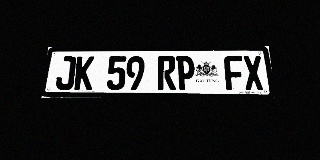5: (107, 56, 126, 90)
9: (126, 56, 145, 90)
F: (224, 56, 245, 90)
J: (55, 56, 76, 90)
K: (74, 56, 94, 90)
P: (176, 56, 195, 90)
R: (157, 56, 176, 90)
X: (242, 56, 264, 90)
